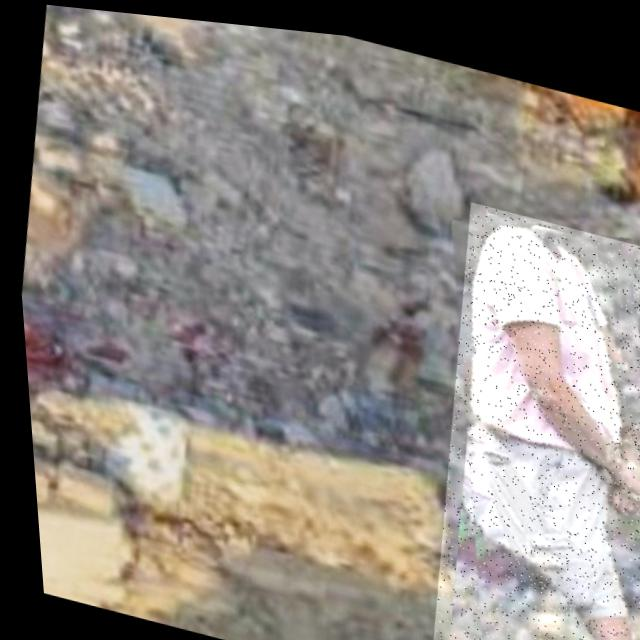Person in Rubble: (398, 187, 640, 640)
